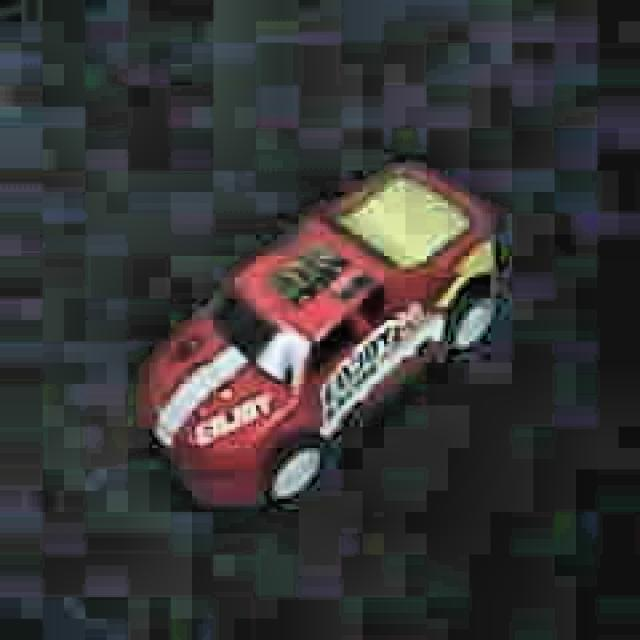car: (135, 149, 508, 510)
